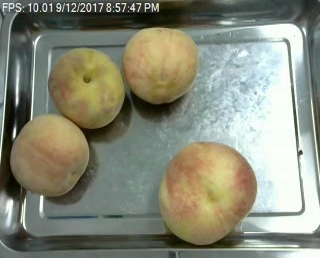Peach: (159, 140, 257, 246), (8, 113, 89, 197), (48, 46, 125, 129), (123, 26, 199, 103)
